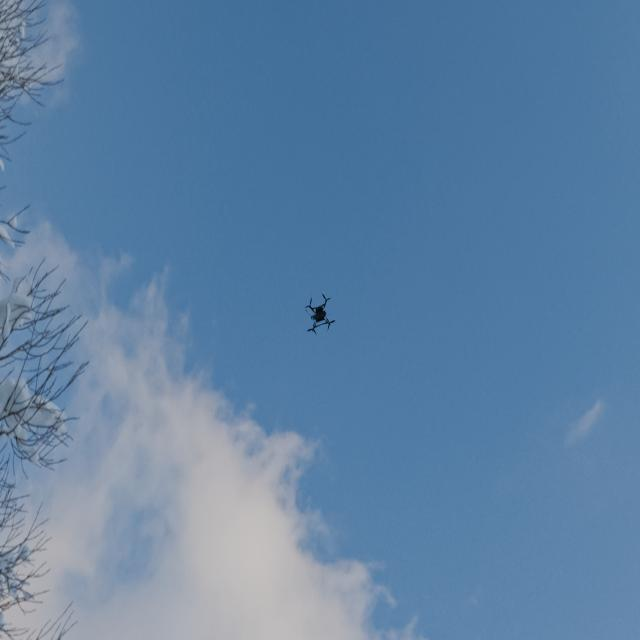drone: (302, 281, 337, 345)
